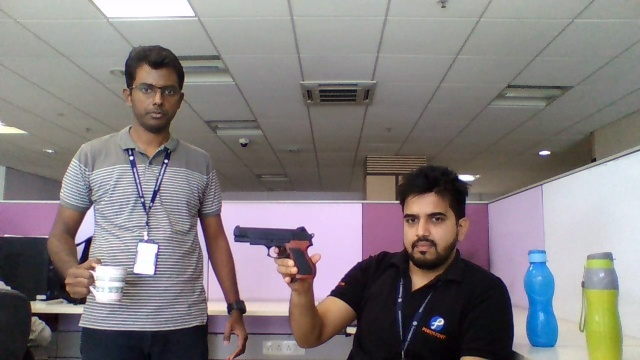gun: (233, 224, 314, 257)
